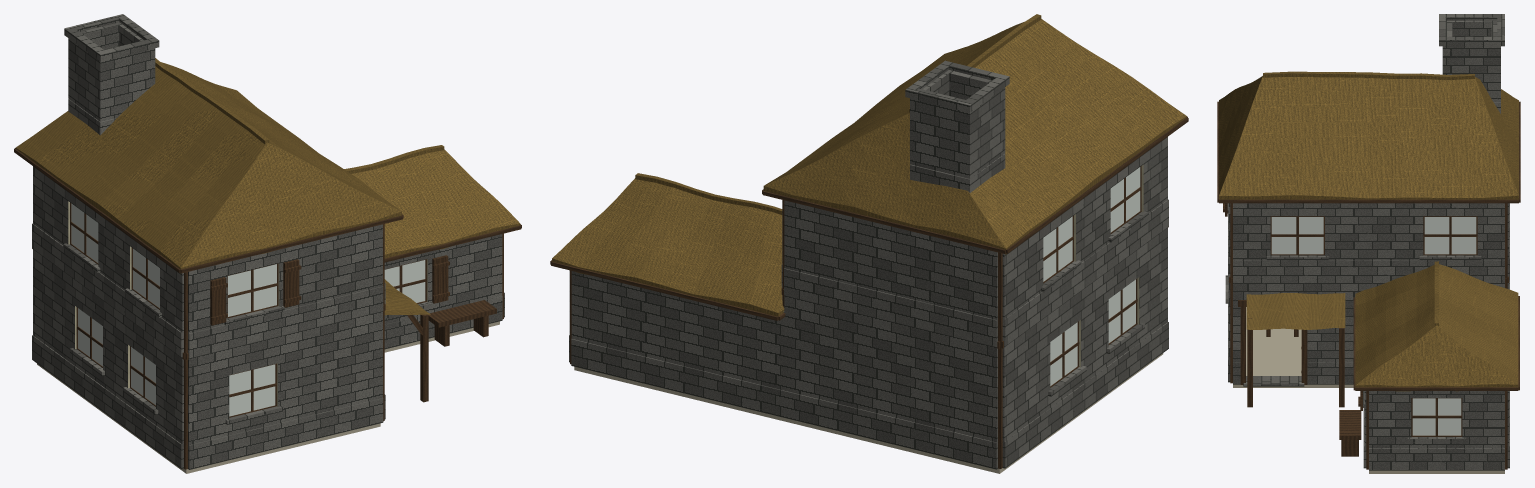
The model's file is kitchen-character.glb.
The picture shows the model from 3 angles, left to right: view 1: azimuth 30°, elevation 25°; view 2: azimuth 150°, elevation 25°; view 3: azimuth 270°, elevation 25°; orthographic projection. The views are drawn at different scales.
Parts seen in each view (by area): view 1: Kitchen_Roof_0, Kitchen_Shell_0, Kitchen_GroundFront_0, Kitchen_UpperShell_0, Kitchen_UpperShell_1, Kitchen_Chimney_0, Kitchen_Shell_1, Kitchen_GroundFront_1, Kitchen_UpperShell_3, Kitchen_Glazing_0, Kitchen_Shell_2, Kitchen_Roof_1 (+6 smaller); view 2: Kitchen_Roof_0, Kitchen_Shell_1, Kitchen_Shell_0, Kitchen_UpperShell_0, Kitchen_UpperShell_1, Kitchen_Chimney_0, Kitchen_Roof_1, Kitchen_UpperShell_3, Kitchen_Glazing_0, Kitchen_Floor_0, Kitchen_Shell_2, Kitchen_UpperShell_2; view 3: Kitchen_Roof_0, Kitchen_UpperShell_0, Kitchen_UpperShell_1, Kitchen_Shell_0, Kitchen_Chimney_0, Kitchen_GroundFront_0, Kitchen_Shell_1, Kitchen_UpperShell_3, Kitchen_Floor_0, Kitchen_Roof_1, Kitchen_Shell_2, Kitchen_Glazing_0 (+5 smaller).
Boxes of the visible parts, <box> form: Kitchen_Roof_0: <box>15,58,520,315</box>; Kitchen_Shell_0: <box>33,234,502,468</box>; Kitchen_GroundFront_0: <box>188,311,382,469</box>; Kitchen_UpperShell_0: <box>33,166,382,356</box>; Kitchen_UpperShell_1: <box>32,223,385,358</box>; Kitchen_Chimney_0: <box>64,14,159,135</box>; Kitchen_Shell_1: <box>32,292,504,468</box>; Kitchen_GroundFront_1: <box>188,394,385,469</box>; Kitchen_UpperShell_3: <box>71,203,276,316</box>; Kitchen_Glazing_0: <box>78,260,425,404</box>; Kitchen_Shell_2: <box>76,233,503,469</box>; Kitchen_Roof_1: <box>14,148,521,273</box>; Kitchen_Roof_0: <box>552,14,1186,316</box>; Kitchen_Shell_1: <box>569,295,1168,469</box>; Kitchen_Shell_0: <box>569,227,1167,468</box>; Kitchen_UpperShell_0: <box>782,137,1167,346</box>; Kitchen_UpperShell_1: <box>781,199,1168,346</box>; Kitchen_Chimney_0: <box>905,60,1009,192</box>; Kitchen_Roof_1: <box>550,116,1188,320</box>; Kitchen_UpperShell_3: <box>1043,167,1140,281</box>; Kitchen_Glazing_0: <box>1050,279,1135,385</box>; Kitchen_Floor_0: <box>574,353,1163,473</box>; Kitchen_Shell_2: <box>570,270,1137,468</box>; Kitchen_UpperShell_2: <box>781,166,1168,348</box>; Kitchen_Roof_0: <box>1219,71,1518,391</box>; Kitchen_UpperShell_0: <box>1228,203,1509,269</box>; Kitchen_UpperShell_1: <box>1227,203,1509,282</box>; Kitchen_Shell_0: <box>1364,283,1509,468</box>; Kitchen_Chimney_0: <box>1439,14,1504,113</box>; Kitchen_GroundFront_0: <box>1228,270,1368,382</box>; Kitchen_Shell_1: <box>1363,270,1509,470</box>; Kitchen_UpperShell_3: <box>1271,217,1476,254</box>; Kitchen_Floor_0: <box>1233,307,1504,473</box>; Kitchen_Roof_1: <box>1217,101,1520,390</box>; Kitchen_Shell_2: <box>1230,271,1507,469</box>; Kitchen_Glazing_0: <box>1412,398,1461,435</box>.
Bounding box in the file's own units: 12.92 × 9.74 × 8.94.
Materials: 13 (4 with a texture image).
